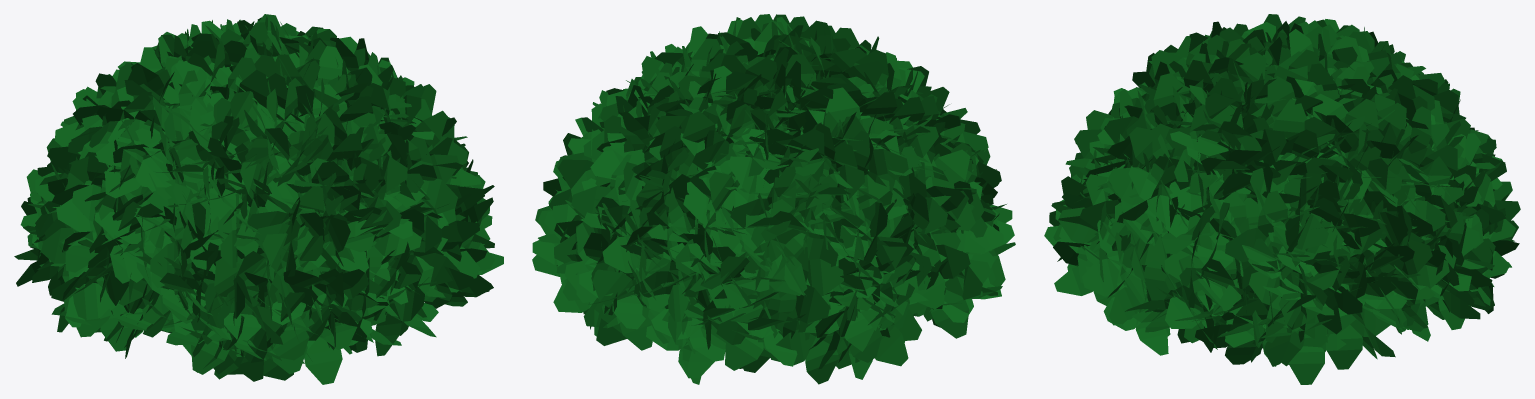
Rendered from bigBush.fbx.
3 renders of one model, left to right at view 1: azimuth 30°, elevation 25°; view 2: azimuth 150°, elevation 25°; view 3: azimuth 270°, elevation 25°, orthographic. The views are drawn at different scales.
Parts seen in each view (by area): view 1: Sphere; view 2: Sphere; view 3: Sphere.
Part boxes in pixels (bbox=[...]): Sphere: bbox=[14, 14, 503, 384]; Sphere: bbox=[532, 14, 1015, 384]; Sphere: bbox=[1044, 14, 1520, 384].
Size of the model in its own units: 310 by 189 by 309.
